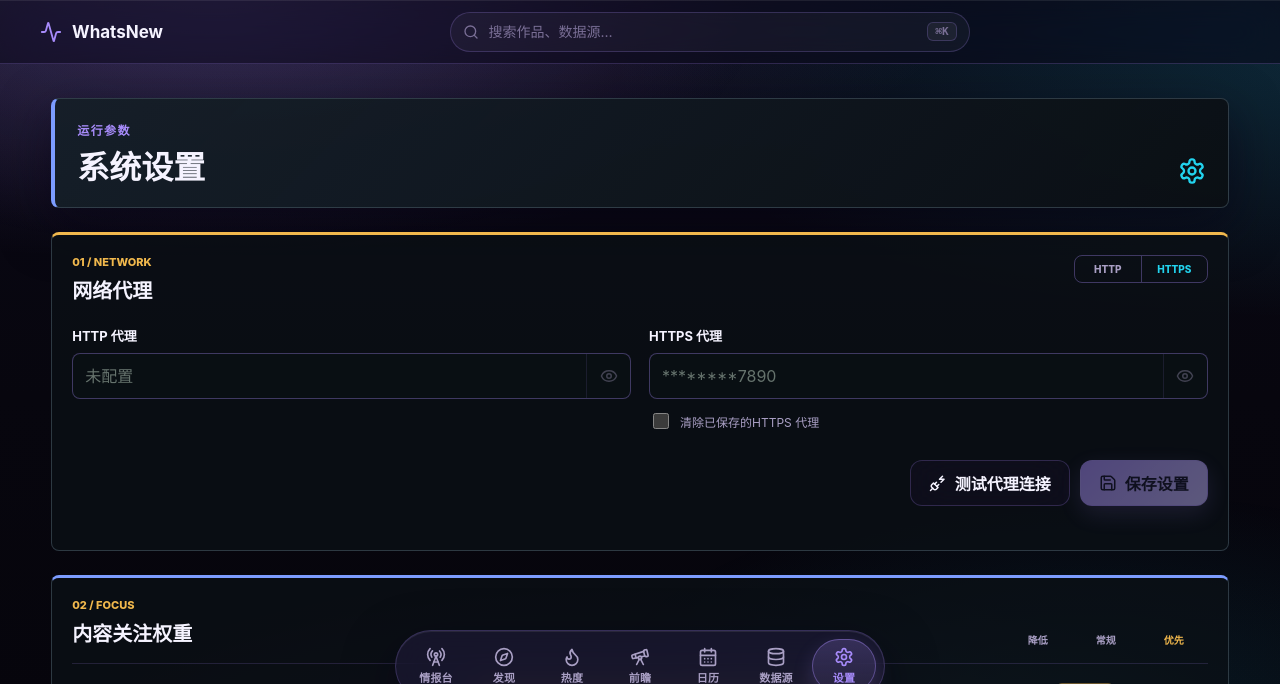
SettingsPage › 保存修改后提示配置立即生效
The image size is (1280, 684).
Step 1. Type "http://127.0.0.1:7890" into the password field labelled "HTTP 代理" → (330, 376), box [73, 354, 586, 398]
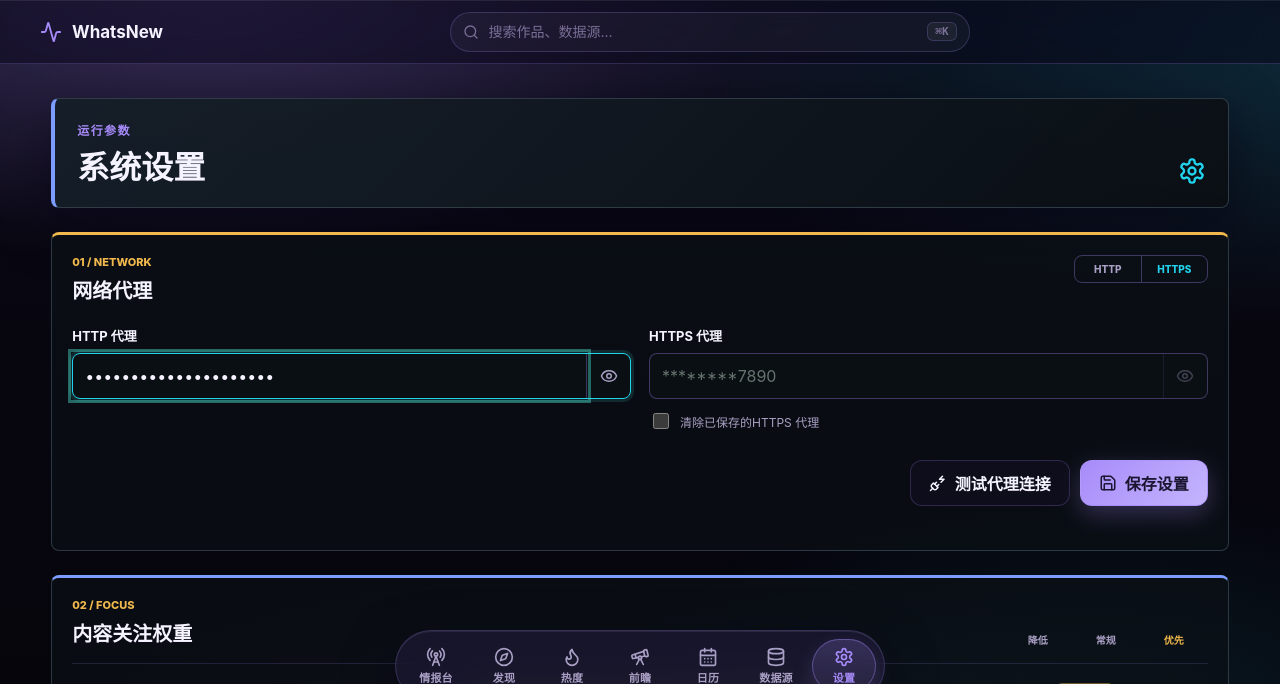
Step 2. Click the button "保存设置" → (1144, 483), box [1080, 460, 1208, 506]
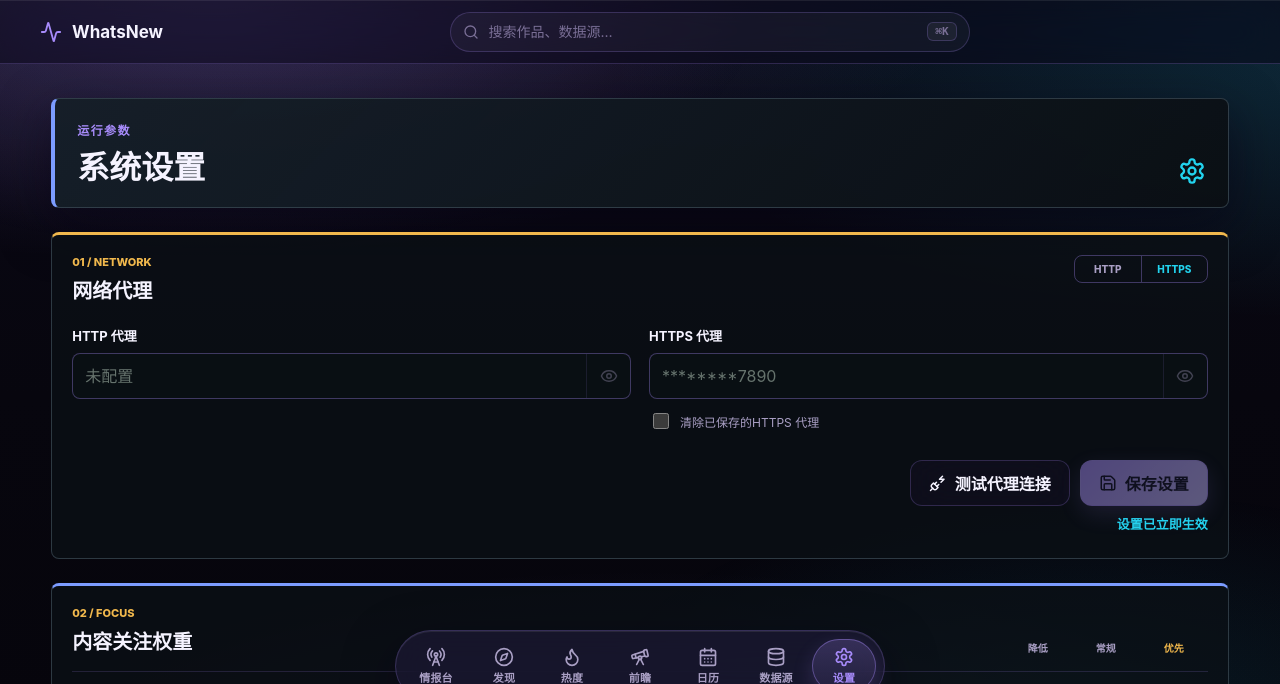
Expected: the text "设置已立即生效" is shown, [1117, 516, 1208, 532]
